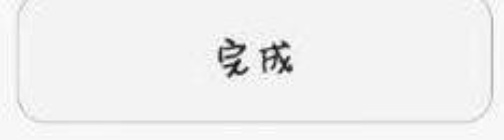Button: (1, 1, 503, 139)
